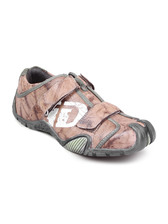shoes: (13, 63, 161, 162)
